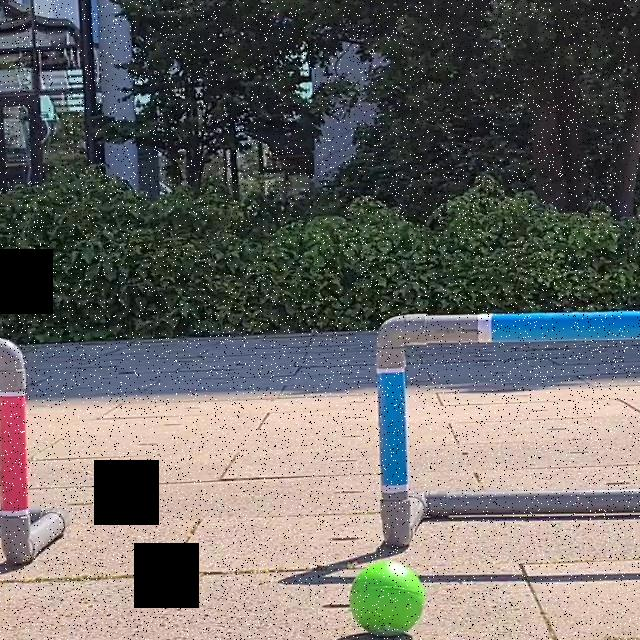ball: (347, 551, 430, 640)
